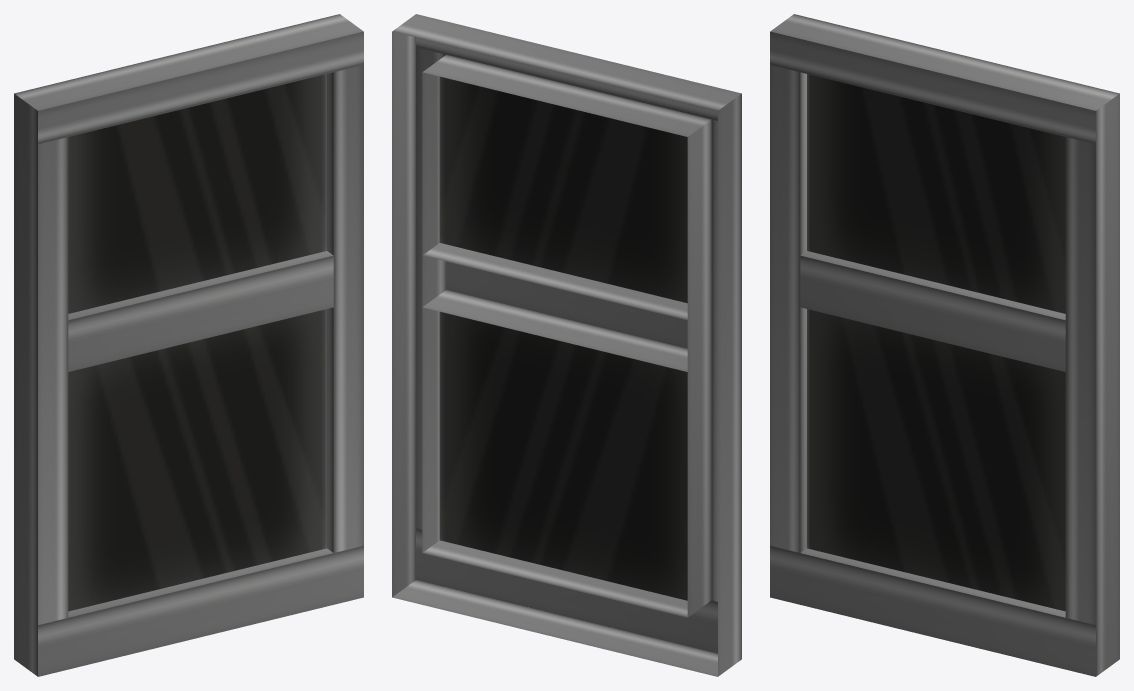
File: Door_Metal_One_Sided.fbx
3 renders of one model, left to right at view 1: azimuth 30°, elevation 25°; view 2: azimuth 150°, elevation 25°; view 3: azimuth 330°, elevation 25°, orthographic.
Visible parts, largest first — view 1: Door_Metal_One_Sided_1; view 2: Door_Metal_One_Sided_1; view 3: Door_Metal_One_Sided_1.
Part boxes in pixels (bbox=[...]): Door_Metal_One_Sided_1: bbox=[14, 14, 363, 676]; Door_Metal_One_Sided_1: bbox=[392, 14, 741, 676]; Door_Metal_One_Sided_1: bbox=[770, 14, 1119, 676].
Bounding box in the file's own units: 194 × 322 × 24.71.
